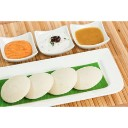idly: (1, 75, 30, 103), (28, 73, 54, 99), (50, 69, 76, 95), (76, 66, 103, 89)
